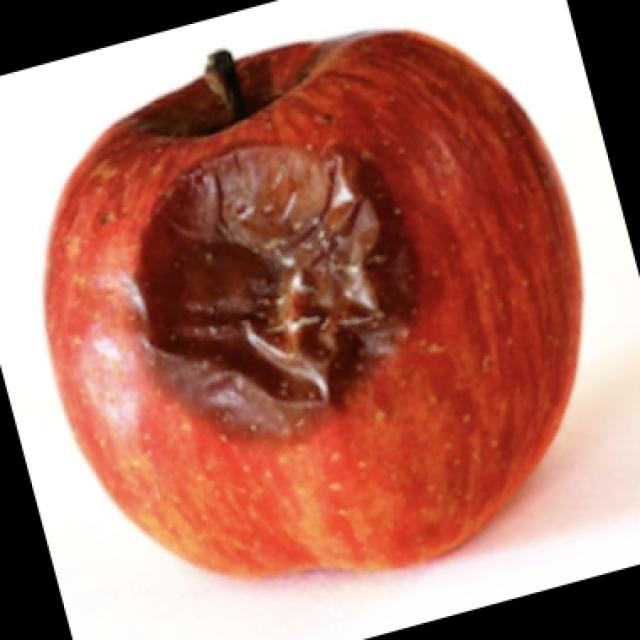organik: (53, 36, 587, 598)
